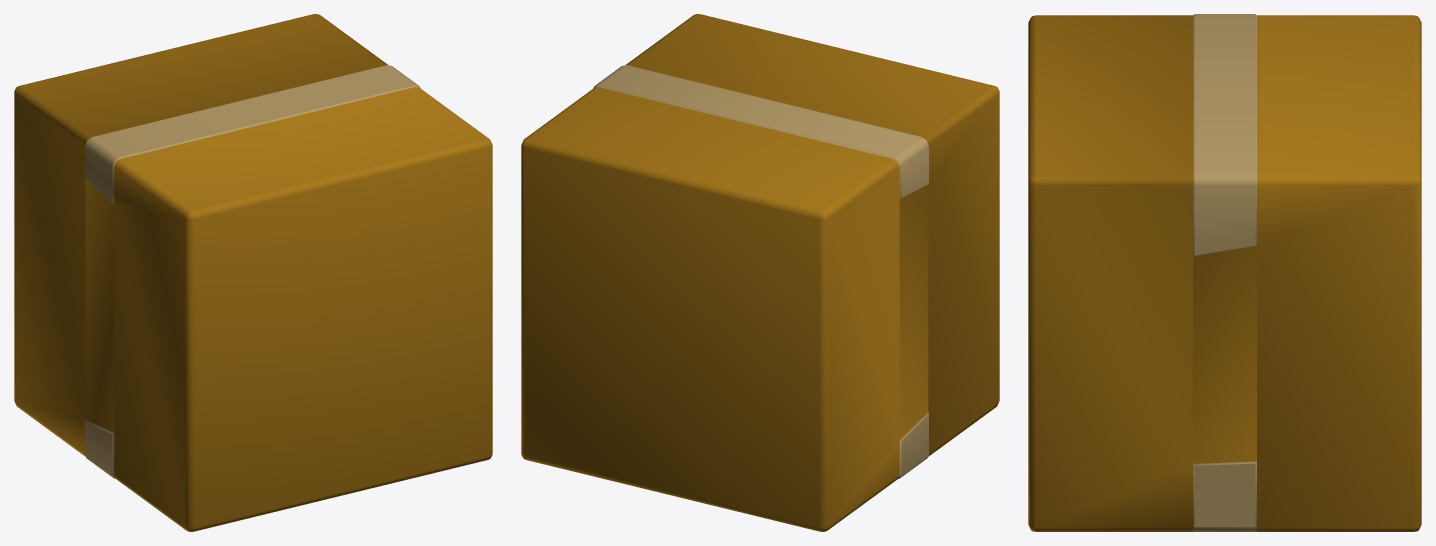
3 renders of one model, left to right at view 1: azimuth 30°, elevation 25°; view 2: azimuth 150°, elevation 25°; view 3: azimuth 270°, elevation 25°, orthographic. The views are drawn at different scales.
Visible parts, largest first — view 1: 1x1x1; view 2: 1x1x1; view 3: 1x1x1.
Part boxes in pixels (<box>): 1x1x1: <box>14,14,492,531</box>; 1x1x1: <box>521,14,999,531</box>; 1x1x1: <box>1028,14,1421,531</box>.
Size of the model in its own units: 10.08 by 10.04 by 10.
